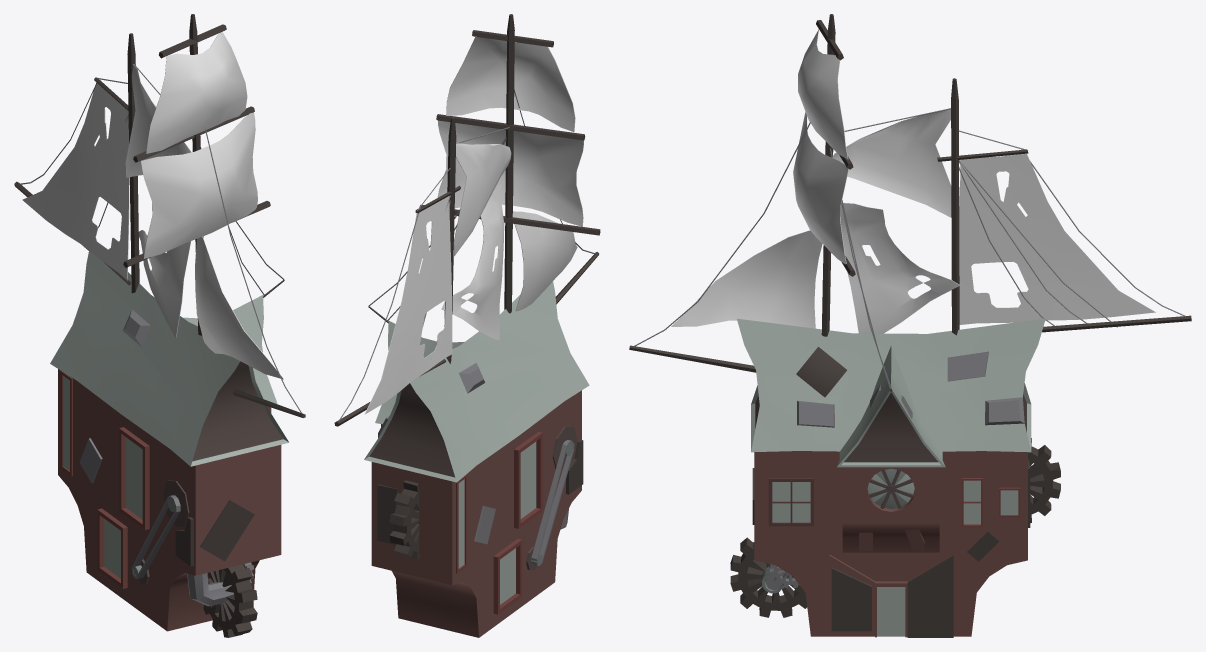
File: sail_building.fbx
3 renders of one model, left to right at view 1: azimuth 30°, elevation 25°; view 2: azimuth 150°, elevation 25°; view 3: azimuth 270°, elevation 25°, orthographic. The views are drawn at different scales.
Parts seen in each view (by area): view 1: Sail building- spefific purpose; view 2: Sail building- spefific purpose; view 3: Sail building- spefific purpose.
Part boxes in pixels (x1,y1,x2,y2): Sail building- spefific purpose: (14, 14, 305, 637); Sail building- spefific purpose: (334, 14, 600, 637); Sail building- spefific purpose: (629, 14, 1191, 637).
Bounding box in the file's own units: 1027 × 2908 × 2479.
1 material, 1 textured.
